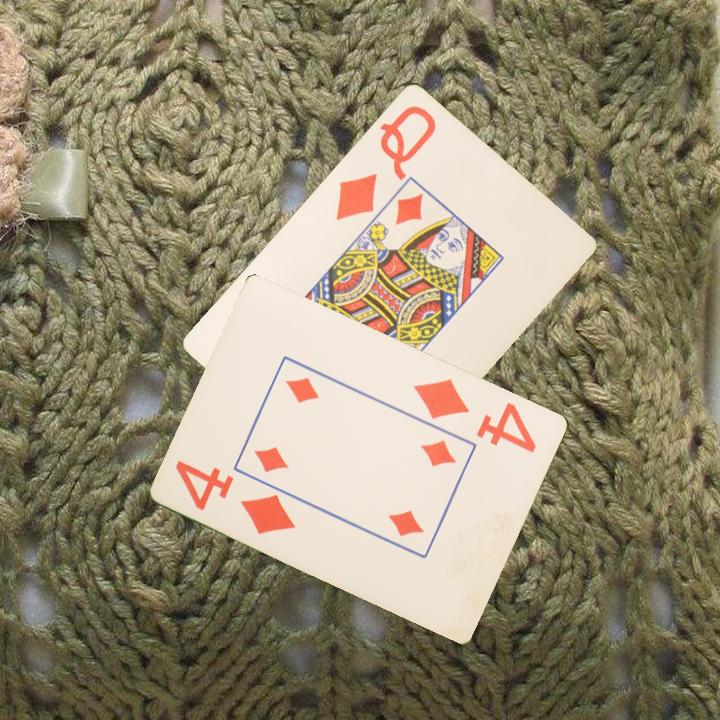4d: (410, 374, 540, 456), (172, 456, 300, 538)
Qd: (332, 101, 439, 223)
